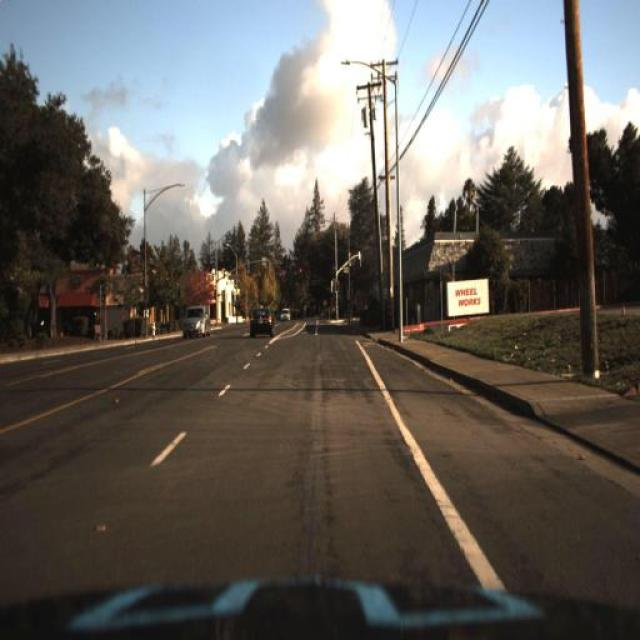car: (178, 300, 214, 340), (246, 304, 273, 341), (276, 304, 292, 324), (278, 307, 294, 323)
trafficLight-RedLeft: (296, 265, 303, 284)
